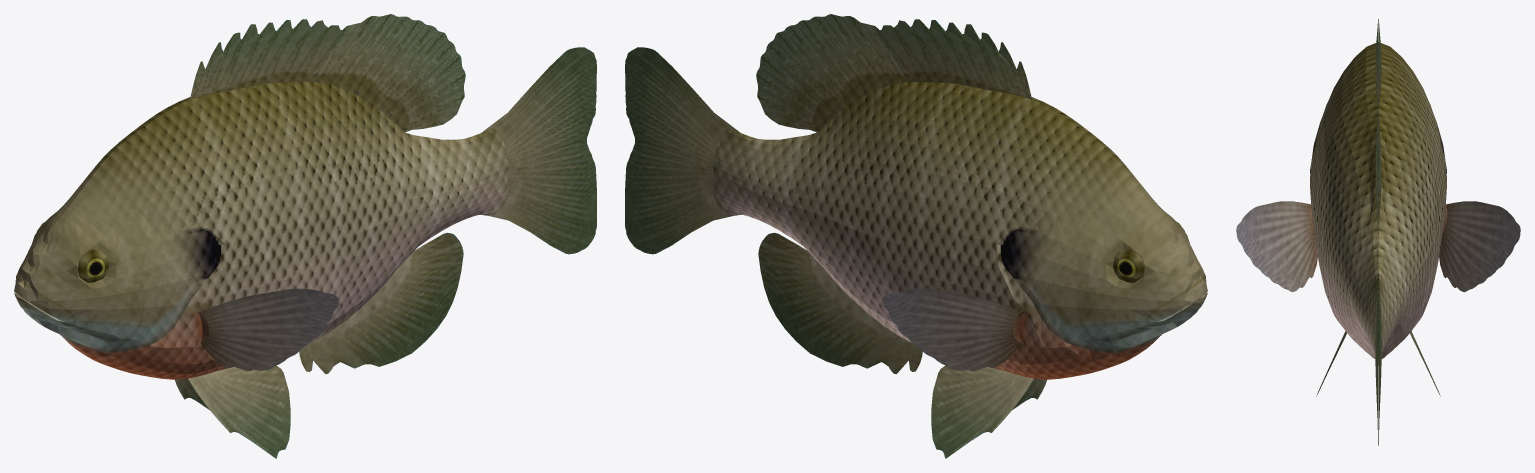
File: blue_gill.glb
The picture shows the model from 3 angles, left to right: view 1: azimuth 30°, elevation 25°; view 2: azimuth 150°, elevation 25°; view 3: azimuth 270°, elevation 25°; orthographic projection. The views are drawn at different scales.
Parts seen in each view (by area): view 1: object, object9, object3, object8, object4, object2, object6, object10; view 2: object, object9, object3, object8, object5, object2, object7, object11; view 3: object, object4, object5, object9, object3, object2.
Boxes of the visible parts, x1=… form: object: x1=14, y1=82, x2=509, y2=379; object9: x1=481, y1=47, x2=596, y2=254; object3: x1=313, y1=14, x2=465, y2=132; object8: x1=299, y1=232, x2=463, y2=374; object4: x1=197, y1=288, x2=338, y2=371; object2: x1=190, y1=19, x2=346, y2=99; object6: x1=188, y1=365, x2=290, y2=458; object10: x1=78, y1=249, x2=108, y2=282; object: x1=712, y1=82, x2=1207, y2=379; object9: x1=625, y1=47, x2=740, y2=254; object3: x1=756, y1=14, x2=908, y2=132; object8: x1=758, y1=232, x2=922, y2=374; object5: x1=883, y1=288, x2=1024, y2=371; object2: x1=875, y1=19, x2=1031, y2=99; object7: x1=931, y1=365, x2=1033, y2=458; object11: x1=1113, y1=249, x2=1143, y2=282; object: x1=1310, y1=42, x2=1446, y2=365; object4: x1=1236, y1=201, x2=1317, y2=292; object5: x1=1439, y1=201, x2=1520, y2=292; object9: x1=1374, y1=273, x2=1382, y2=445; object3: x1=1375, y1=103, x2=1381, y2=234; object2: x1=1375, y1=19, x2=1381, y2=108.
Bounding box in the file's own units: 1.12 × 0.7521 × 0.5059.
1 material, 1 textured.
